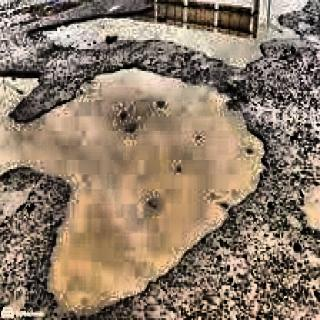pothole: (2, 63, 270, 317), (28, 0, 320, 73)
